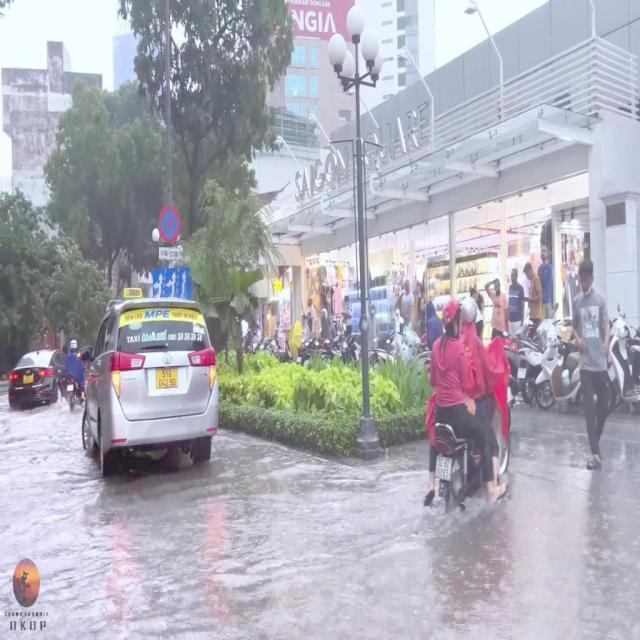130-cam-dung-va-do-xe: (158, 204, 182, 243)
